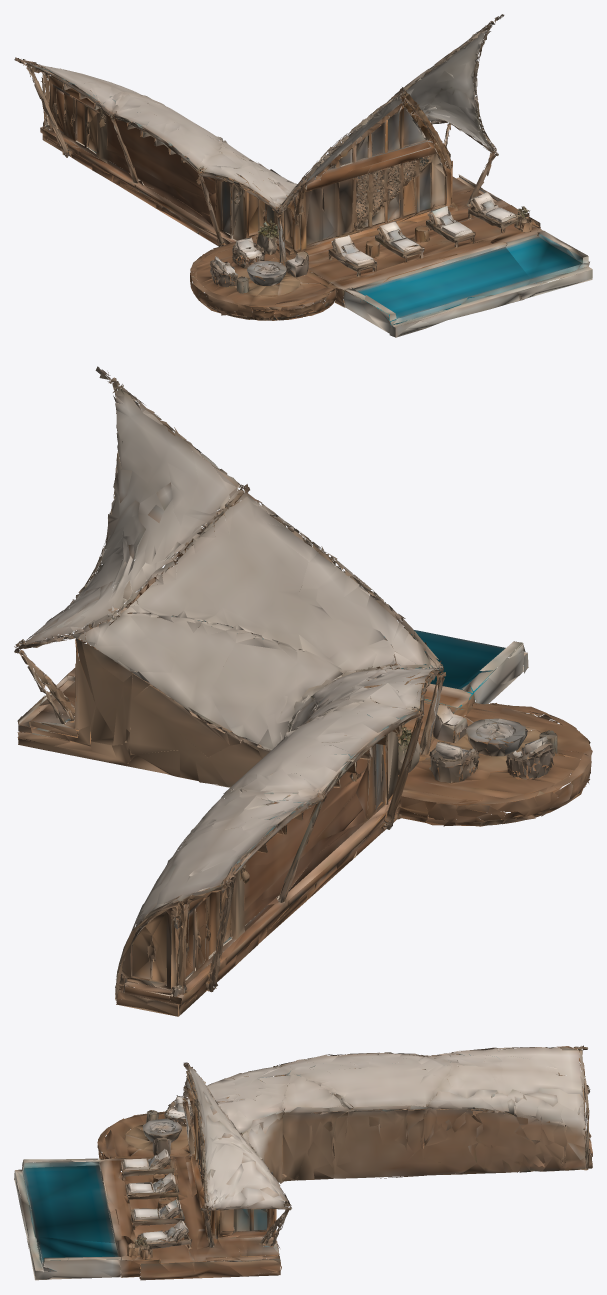
Rendered from flagship.glb.
The picture shows the model from 3 angles, top to bottom: view 1: azimuth 30°, elevation 25°; view 2: azimuth 150°, elevation 25°; view 3: azimuth 270°, elevation 25°; orthographic projection. The views are drawn at different scales.
Parts seen in each view (by area): view 1: LO.001; view 2: LO.001; view 3: LO.001.
Boxes of the visible parts, <box> form: LO.001: <box>14,14,592,337</box>; LO.001: <box>14,366,592,1016</box>; LO.001: <box>14,1045,592,1280</box>.
Size of the model in its own units: 1.2 by 0.7687 by 1.89.
Materials: 1 (1 with a texture image).
